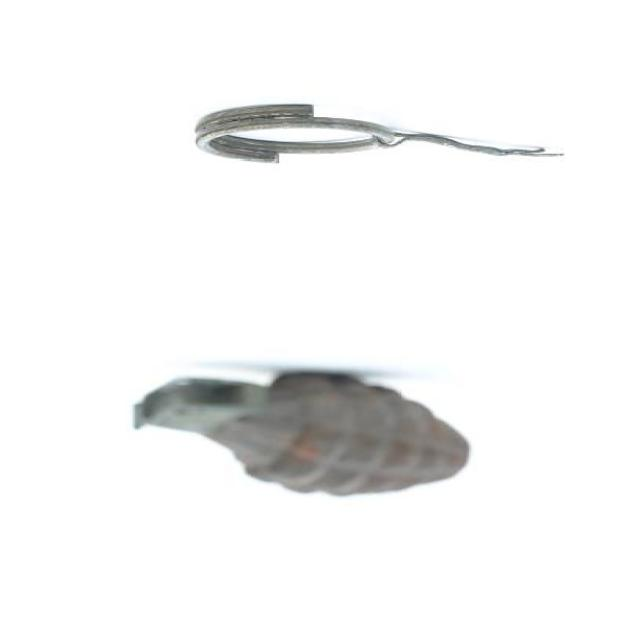grenade: (122, 358, 489, 509)
